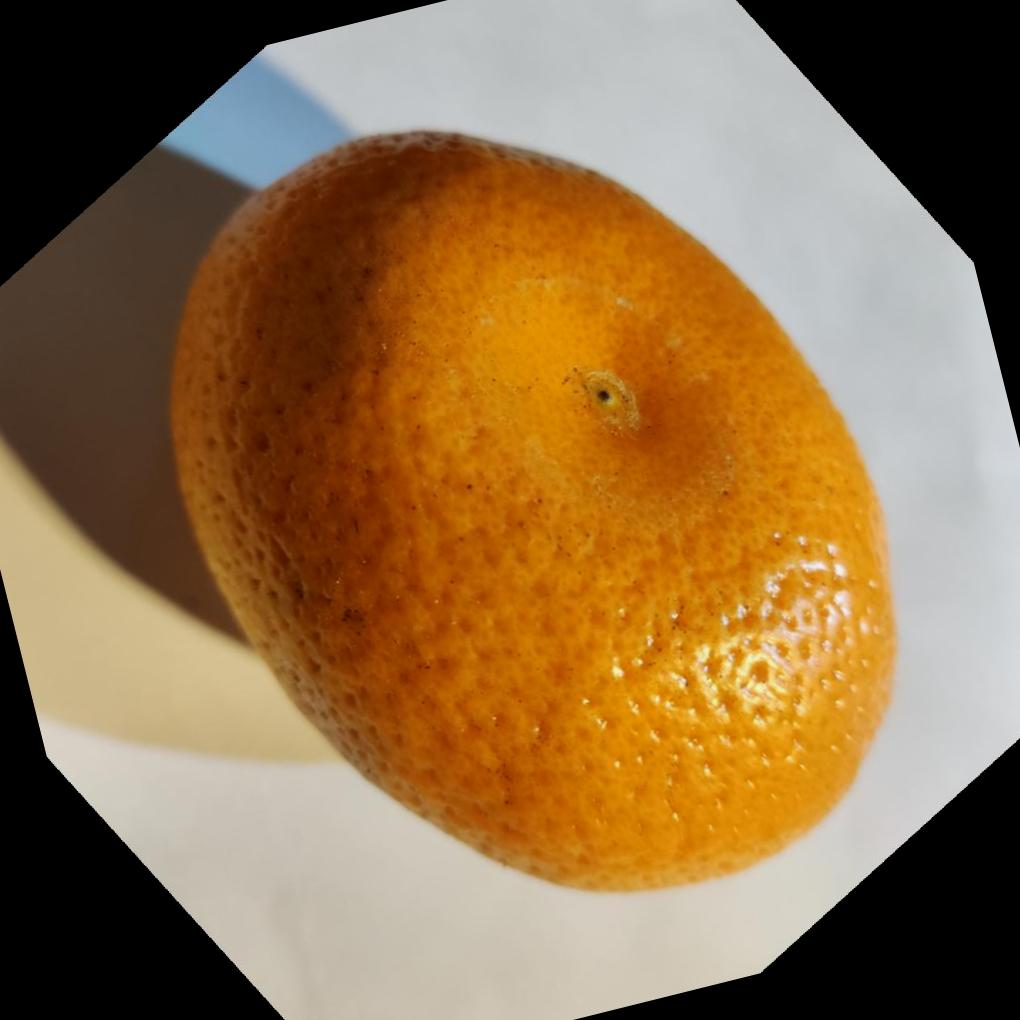FreshGuava: (162, 127, 897, 897)
